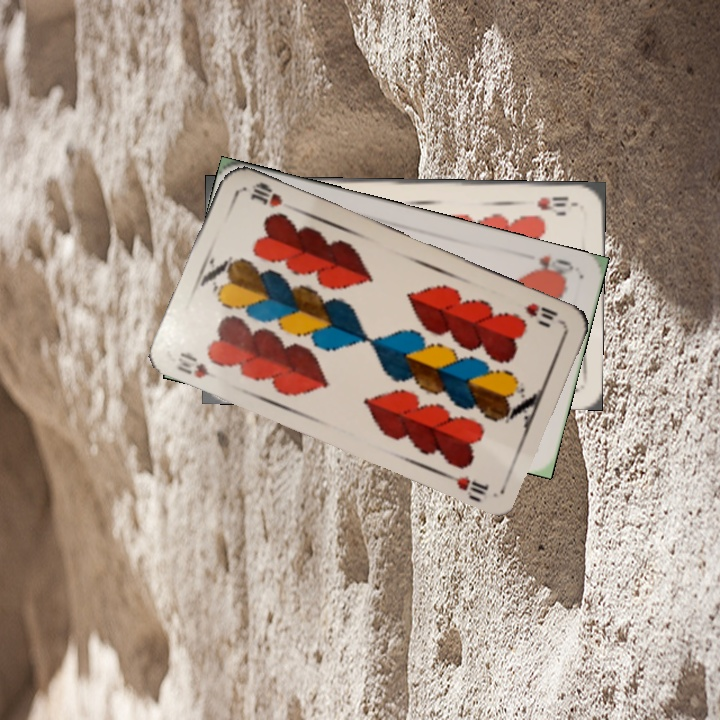H10: (173, 348, 219, 382), (520, 298, 565, 327), (533, 192, 571, 213)
HO: (526, 250, 576, 282)
